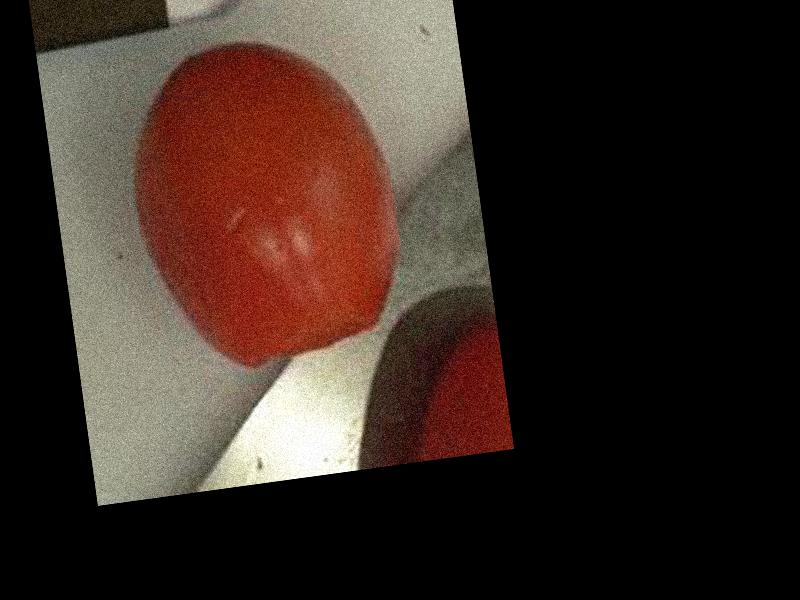Tomato: (116, 24, 416, 379)
